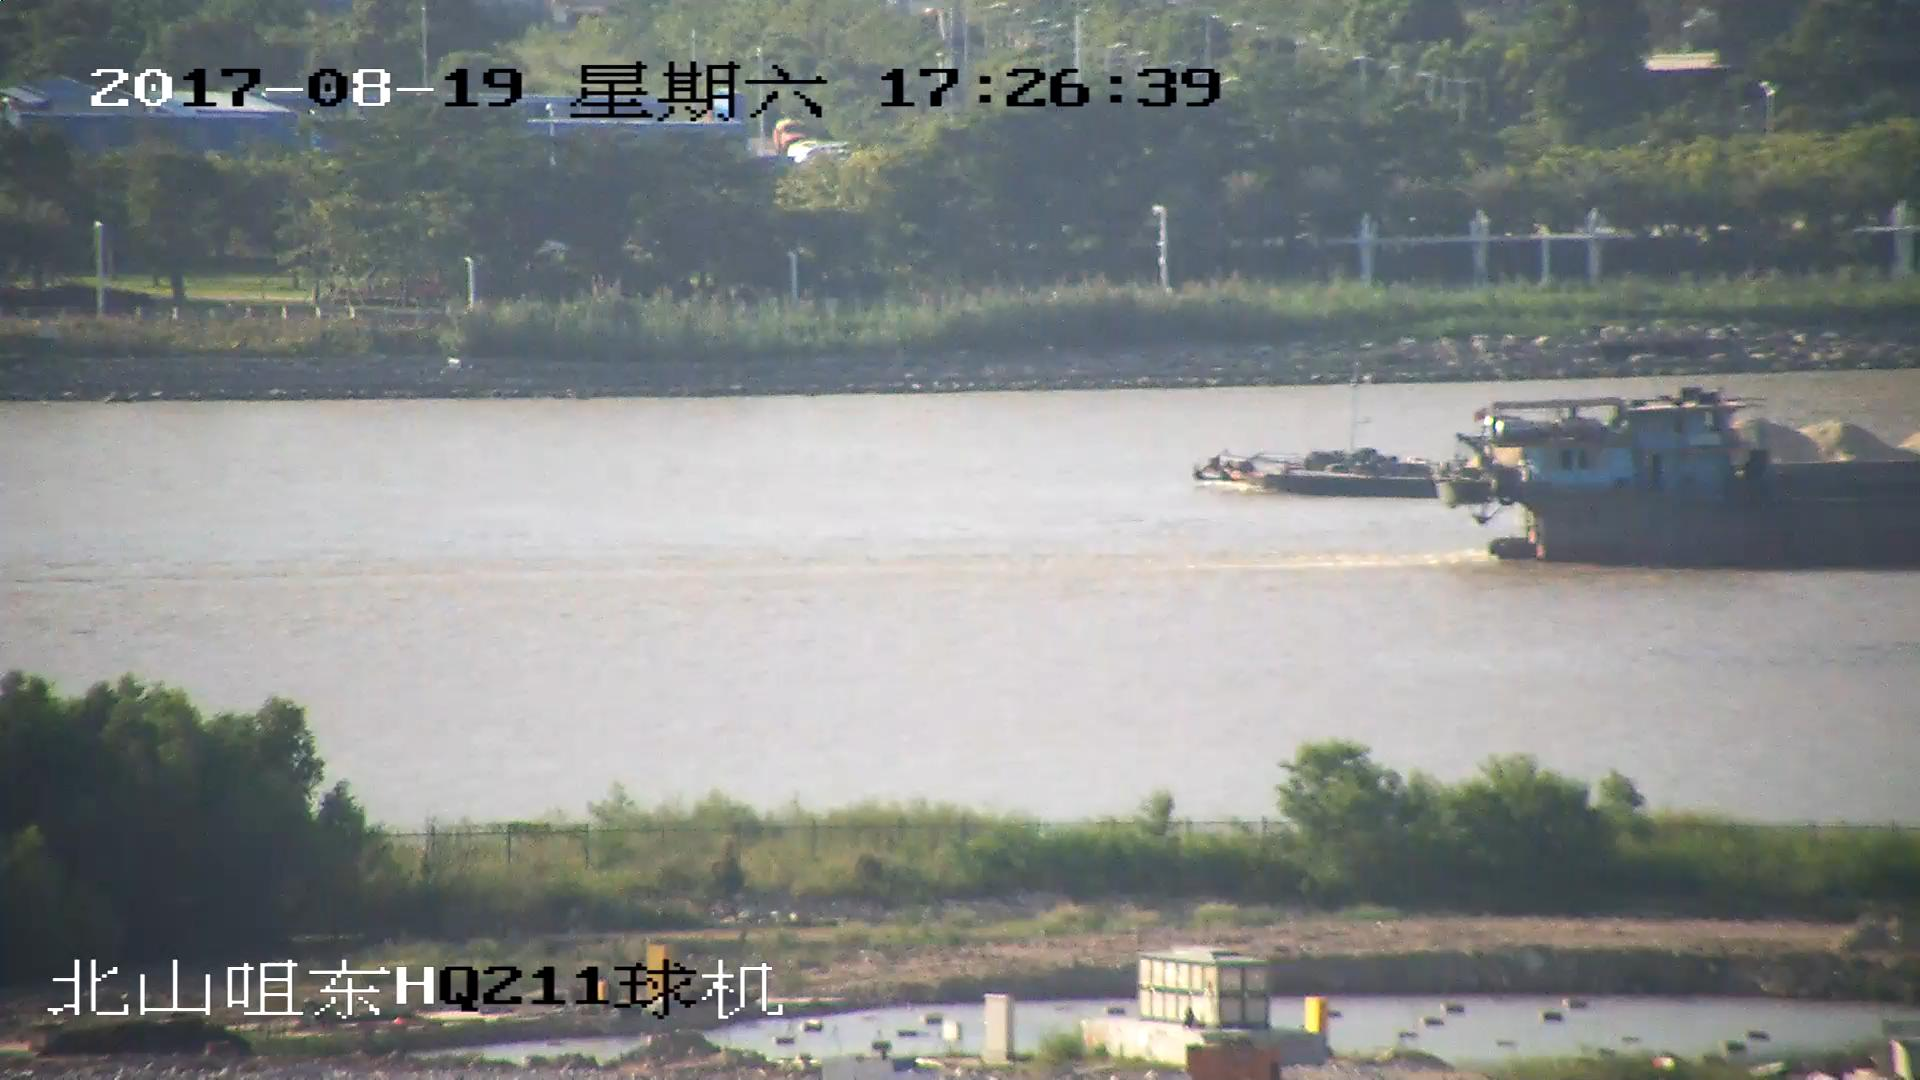bulk cargo carrier: (1446, 398, 1920, 571)
ore carrier: (1196, 423, 1920, 496)
